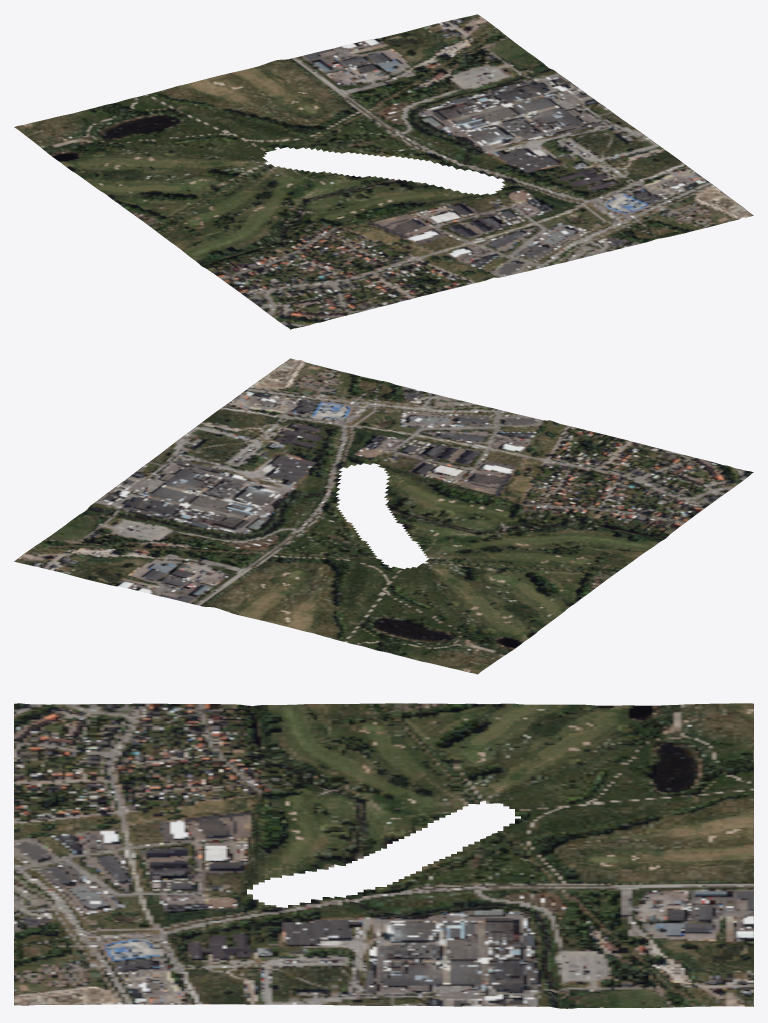
The model's file is yellow_6_wide.glb.
3 renders of one model, top to bottom at view 1: azimuth 30°, elevation 25°; view 2: azimuth 150°, elevation 25°; view 3: azimuth 270°, elevation 25°, orthographic. The views are drawn at different scales.
Parts seen in each view (by area): view 1: wide; view 2: wide; view 3: wide.
Part boxes in pixels (left/top/right/bottom): wide: left=14, top=14, right=753, bottom=329; wide: left=14, top=358, right=753, bottom=674; wide: left=14, top=703, right=753, bottom=1008.
Size of the model in its own units: 984 by 10.47 by 1016.
1 material, 1 textured.
